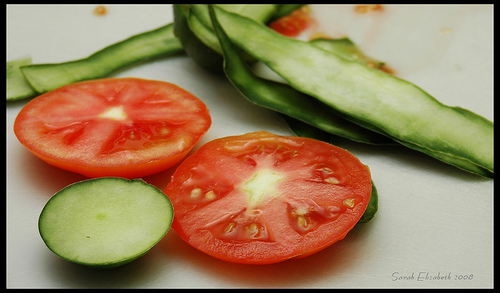cucumber: (208, 2, 495, 174), (20, 22, 182, 99), (39, 178, 175, 268), (170, 2, 224, 74)
